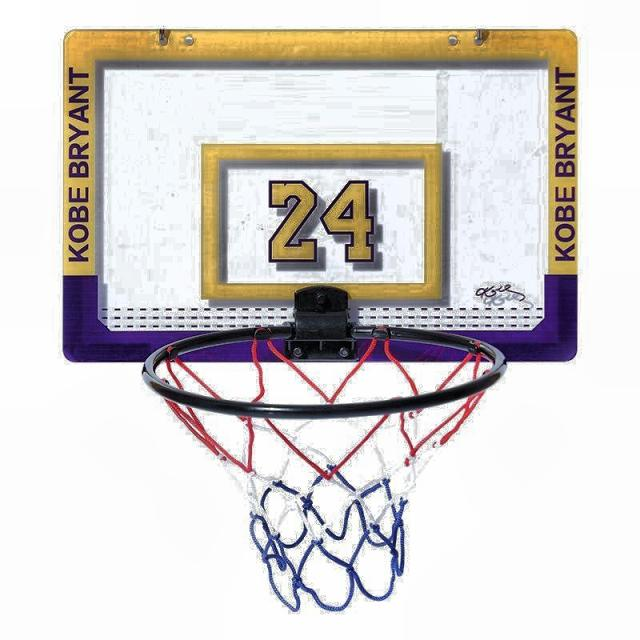rim: (142, 320, 508, 614)
